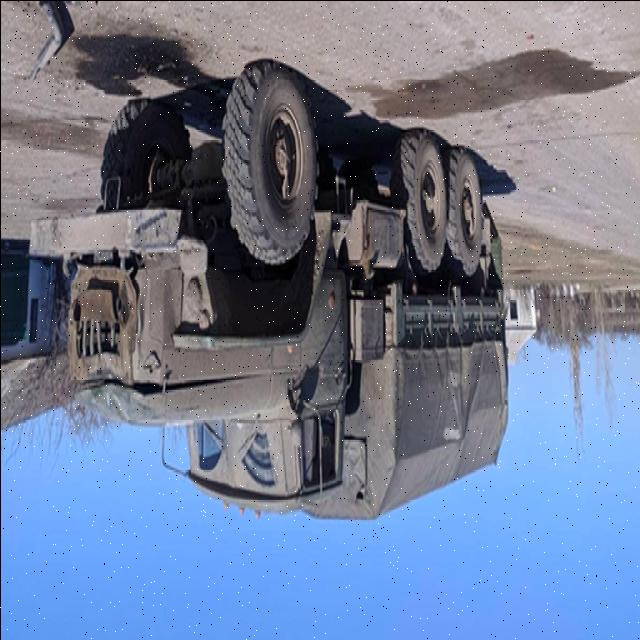TRUCK: (22, 47, 514, 544)
